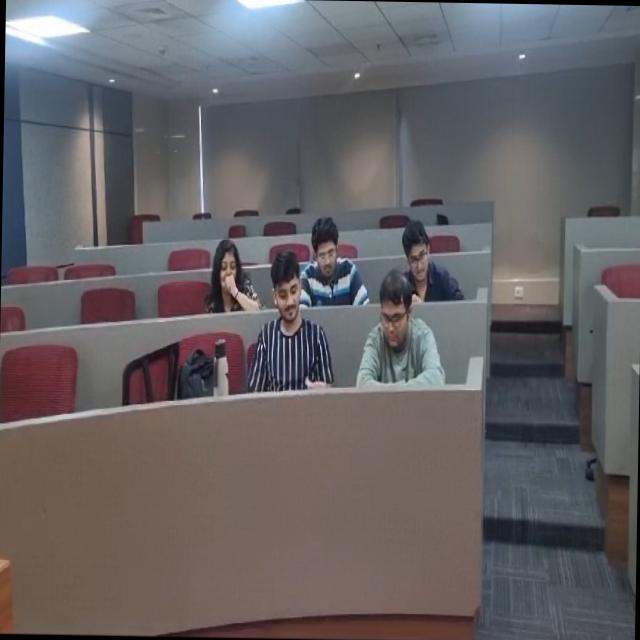cheating: (198, 236, 261, 315), (398, 212, 448, 297)
non-cheating: (349, 282, 436, 400), (258, 264, 321, 396), (300, 216, 356, 306)
